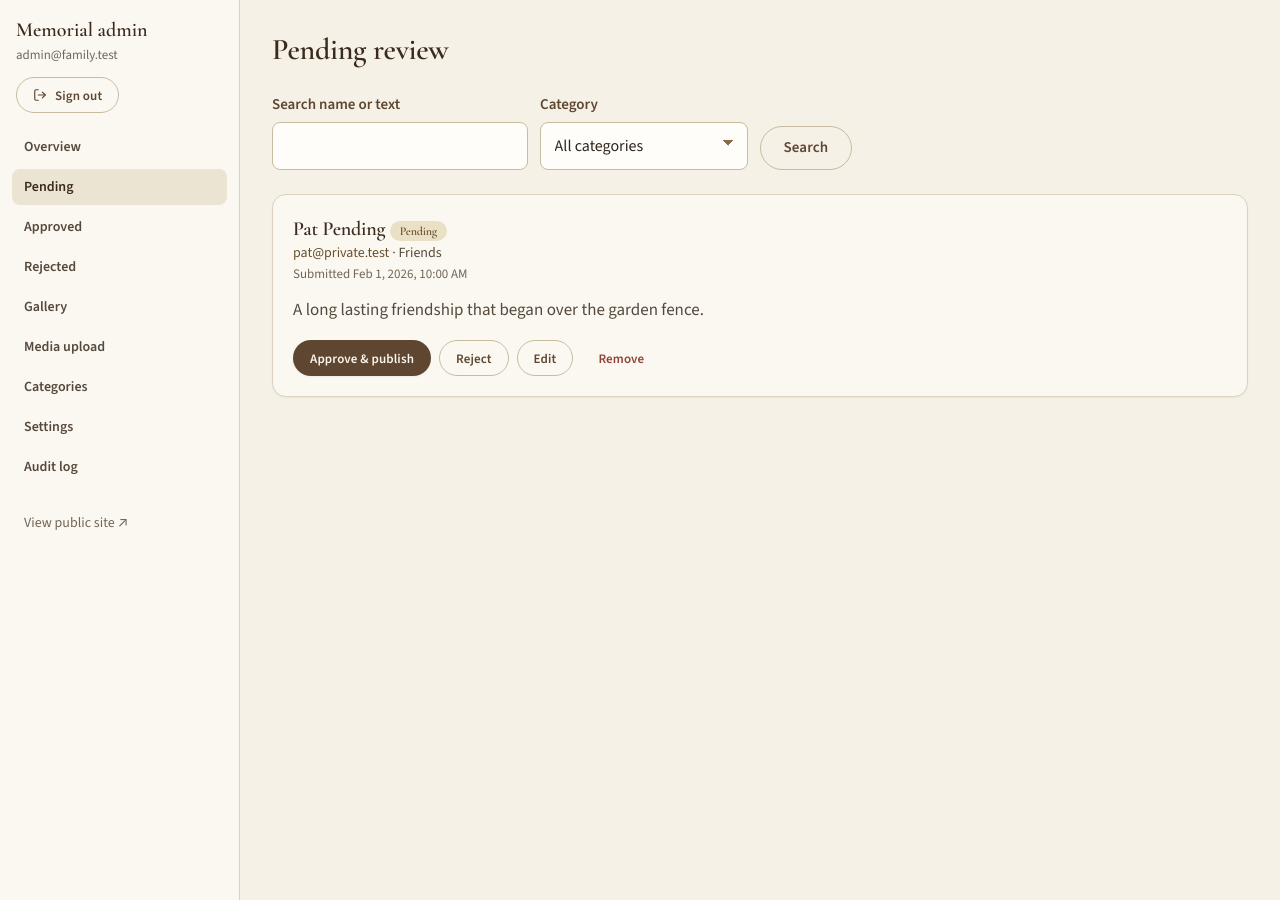
it: admin dashboard › lets the admin cancel a destructive removal
Expected: the heading "Pat Pending pending" is shown, [293,215,468,243]
Click the button "Remove": (621, 358) [581,340,661,376]
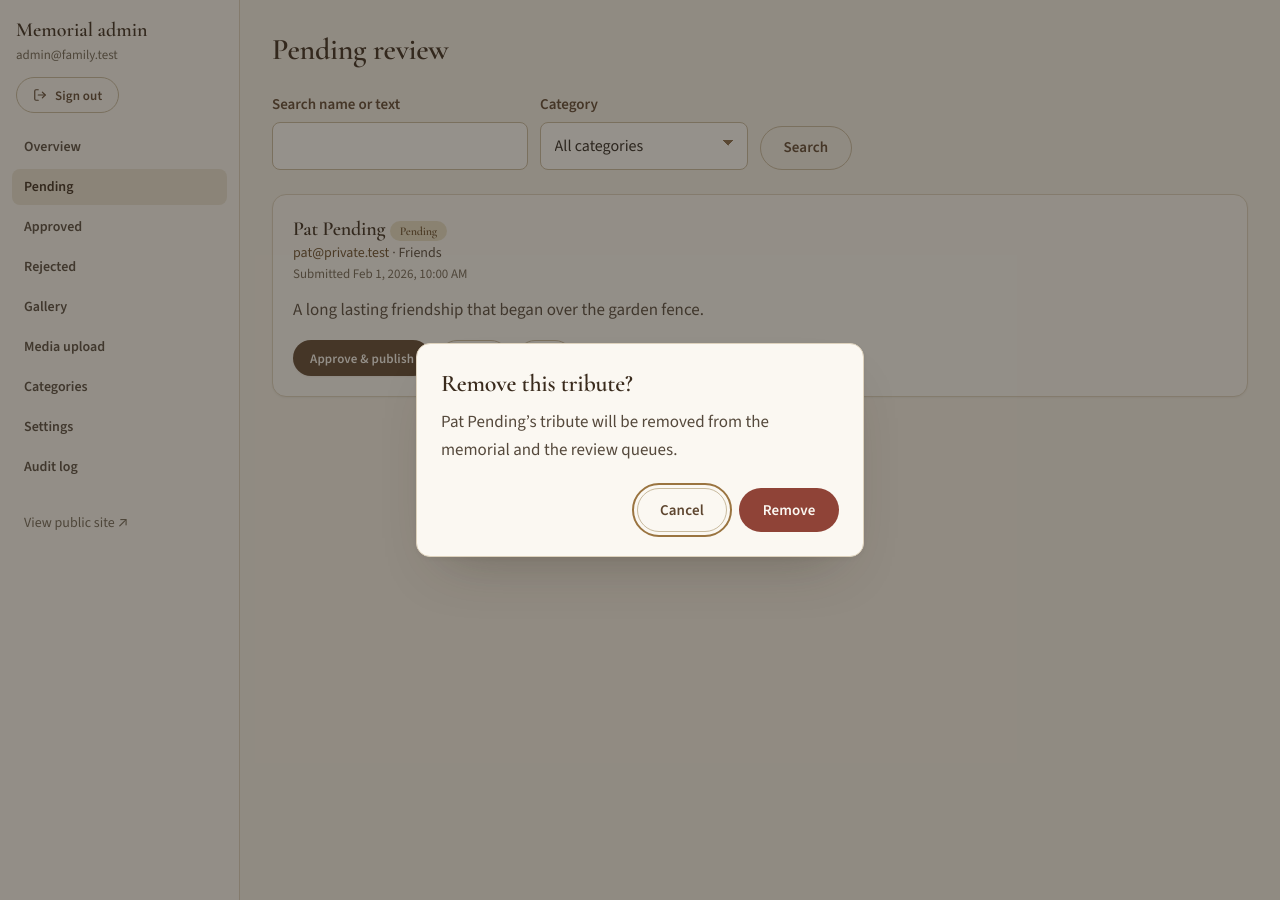
Click the button "Cancel": (682, 510) [636,488,727,532]
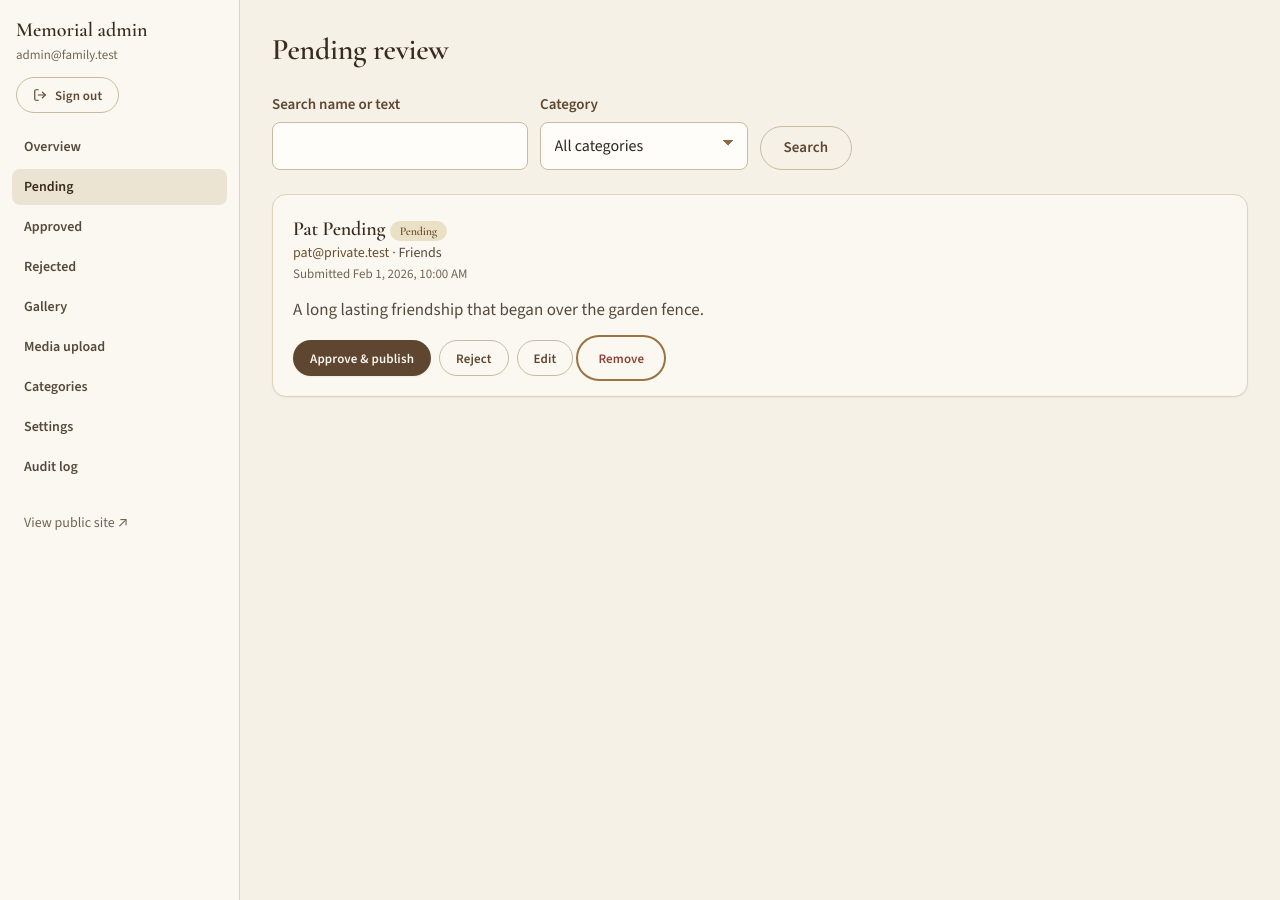
Expected: the dialog is gone
